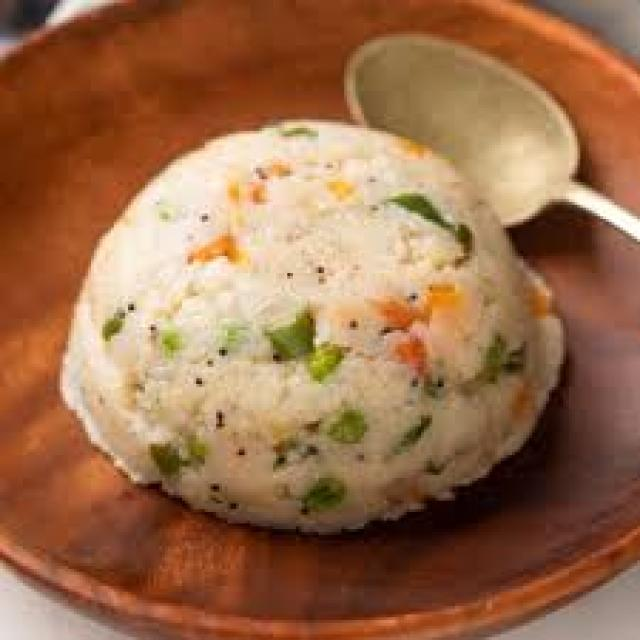Wet Waste: (51, 109, 580, 533)
